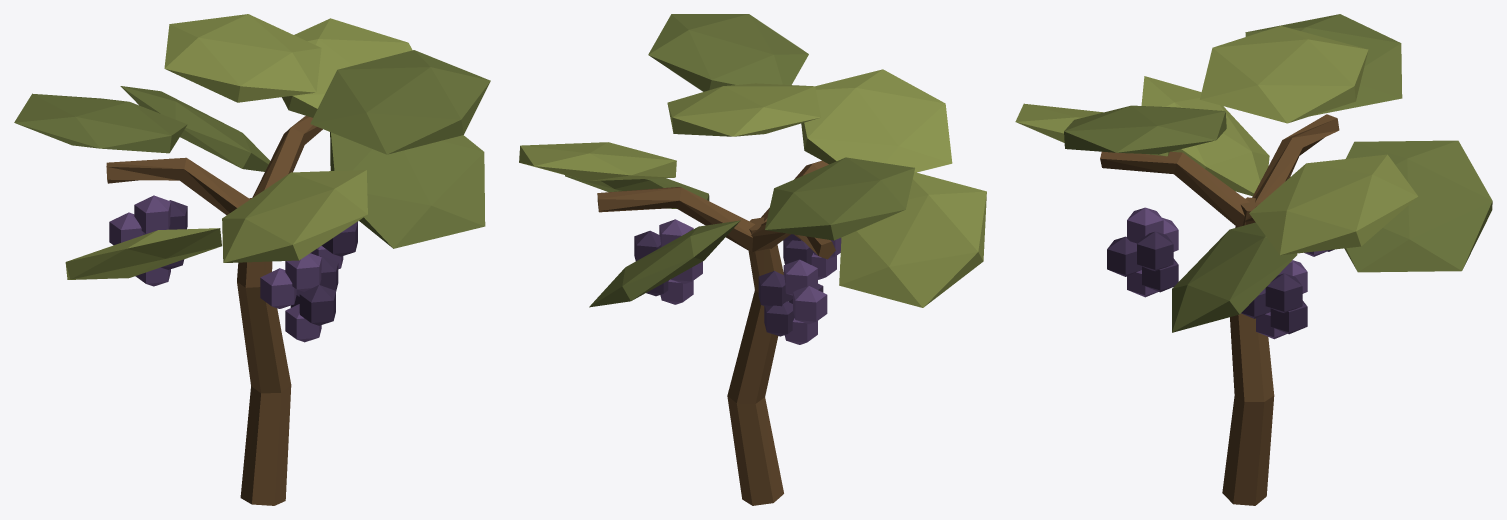
File: vfem2_grape_1.obj
3 views of the same model, side by side, from view 1: azimuth 30°, elevation 25°; view 2: azimuth 150°, elevation 25°; view 3: azimuth 270°, elevation 25° (orthographic). The views are drawn at different scales.
Parts seen in each view (by area): view 1: vfem2_grape_1; view 2: vfem2_grape_1; view 3: vfem2_grape_1.
Boxes of the visible parts, x1,y1,x2,y2 form: vfem2_grape_1: [14, 14, 490, 505]; vfem2_grape_1: [519, 14, 986, 505]; vfem2_grape_1: [1015, 14, 1492, 505].
Bounding box in the file's own units: 0.9806 × 0.9854 × 0.9625.
